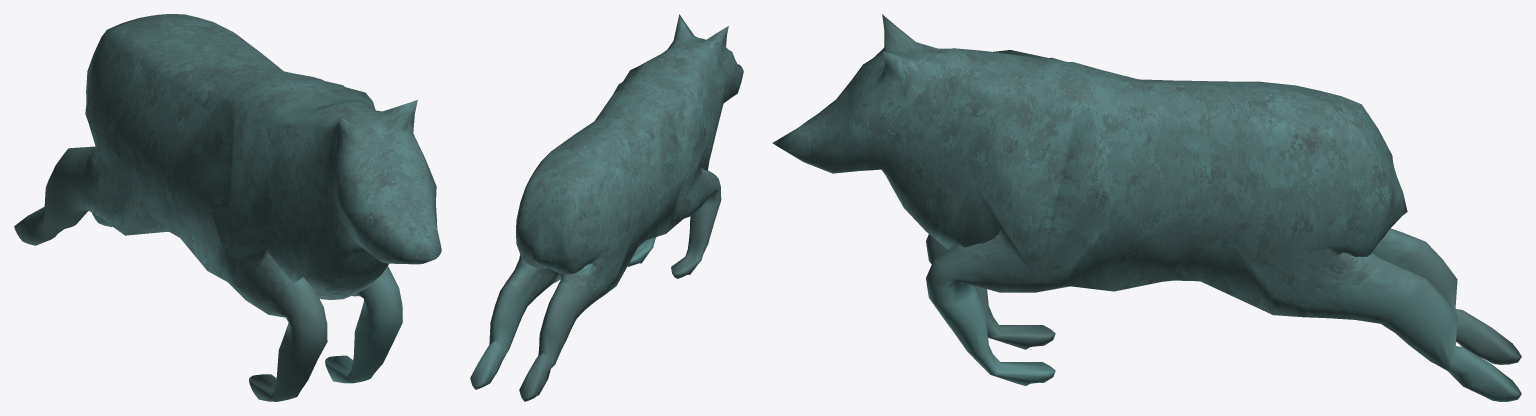
The model's file is piesblend_000023.obj.
3 views of the same model, side by side, from view 1: azimuth 30°, elevation 25°; view 2: azimuth 150°, elevation 25°; view 3: azimuth 270°, elevation 25° (orthographic). The views are drawn at different scales.
Visible parts, largest first — view 1: Cube; view 2: Cube; view 3: Cube.
Boxes of the visible parts, x1=… form: Cube: x1=14, y1=14, x2=441, y2=401; Cube: x1=470, y1=14, x2=743, y2=401; Cube: x1=772, y1=14, x2=1521, y2=401.
Bounding box in the file's own units: 2.55 × 5.54 × 10.7.
Materials: 1 (1 with a texture image).
